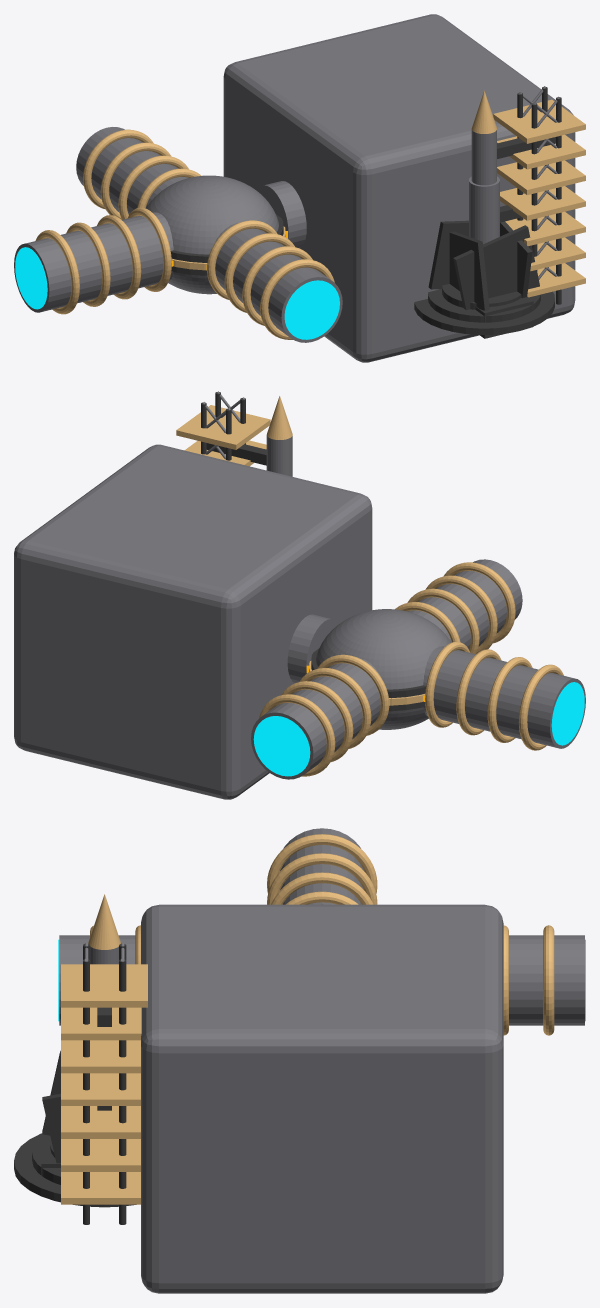
File: Unified_Station_Accurate.glb
3 renders of one model, top to bottom at view 1: azimuth 30°, elevation 25°; view 2: azimuth 150°, elevation 25°; view 3: azimuth 270°, elevation 25°, orthographic. The views are drawn at different scales.
Parts seen in each view (by area): view 1: Cube.012, Cylinder.002, Sphere, Cylinder.006, Cylinder.004, Cube.019, Cylinder.007, Cylinder.014, Cube.026, Cylinder.017, Cylinder.008, Cube.024 (+30 smaller); view 2: Cube.012, Cylinder.002, Sphere, Cylinder.004, Cylinder.006, Cylinder.005, Cube.026, Cylinder.008, Cylinder.003, Torus.024, Torus.021, Torus.023 (+13 smaller); view 3: Cube.012, Cylinder.004, Cube.026, Cube.024, Cube.020, Cube.021, Cube.023, Cube.022, Cylinder.002, Cube.025, Torus.020, Torus.019 (+10 smaller).
Boxes of the visible parts, x1,y1,x2,y2 form: Cube.012: (223, 14, 575, 362); Cylinder.002: (14, 212, 173, 312); Sphere: (146, 175, 278, 294); Cylinder.006: (215, 222, 342, 342); Cylinder.004: (76, 127, 188, 214); Cube.019: (453, 225, 539, 310); Cylinder.007: (284, 280, 339, 339); Cylinder.014: (414, 291, 554, 334); Cube.026: (493, 99, 585, 143); Cylinder.017: (469, 176, 499, 244); Cylinder.008: (256, 181, 306, 248); Cube.024: (497, 160, 585, 194); Cube.012: (14, 444, 372, 799); Cylinder.002: (423, 646, 585, 748); Sphere: (316, 609, 451, 729); Cylinder.004: (251, 657, 382, 779); Cylinder.006: (408, 559, 522, 649); Cylinder.005: (253, 716, 310, 776); Cube.026: (176, 405, 270, 449); Cylinder.008: (287, 614, 338, 683); Cylinder.003: (551, 682, 584, 745); Torus.024: (259, 694, 335, 776); Torus.021: (317, 654, 389, 735); Torus.023: (281, 681, 353, 762); Cube.012: (141, 904, 503, 1293); Cylinder.004: (509, 935, 584, 1025); Cube.026: (61, 964, 147, 1007); Cube.024: (61, 1040, 140, 1073); Cube.020: (61, 1172, 140, 1204); Cube.021: (61, 1139, 140, 1171); Cube.023: (61, 1073, 140, 1105); Cube.022: (61, 1106, 140, 1138); Cylinder.002: (280, 828, 364, 904); Cube.025: (61, 1007, 141, 1040); Torus.020: (267, 834, 377, 893); Torus.019: (267, 853, 377, 904).
Size of the model in its own units: 78.1 by 41 by 63.1.
